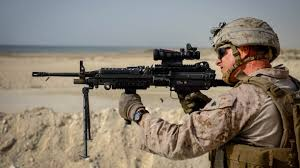gun: (30, 41, 238, 126)
